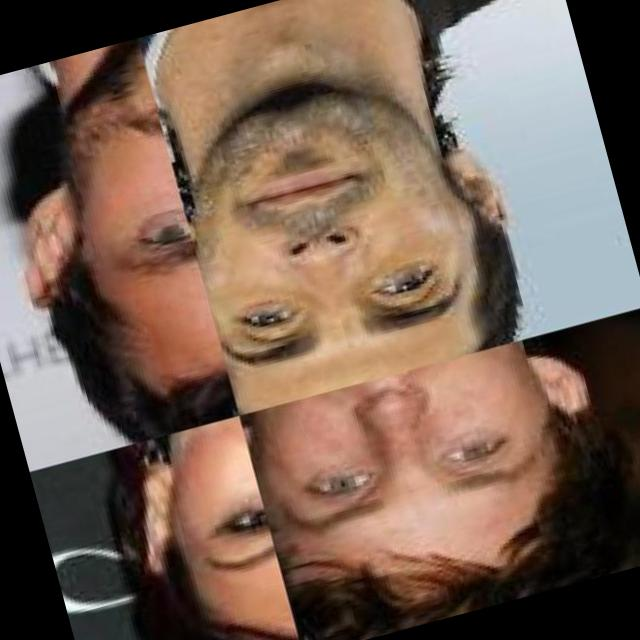bareface: (178, 86, 523, 411)
